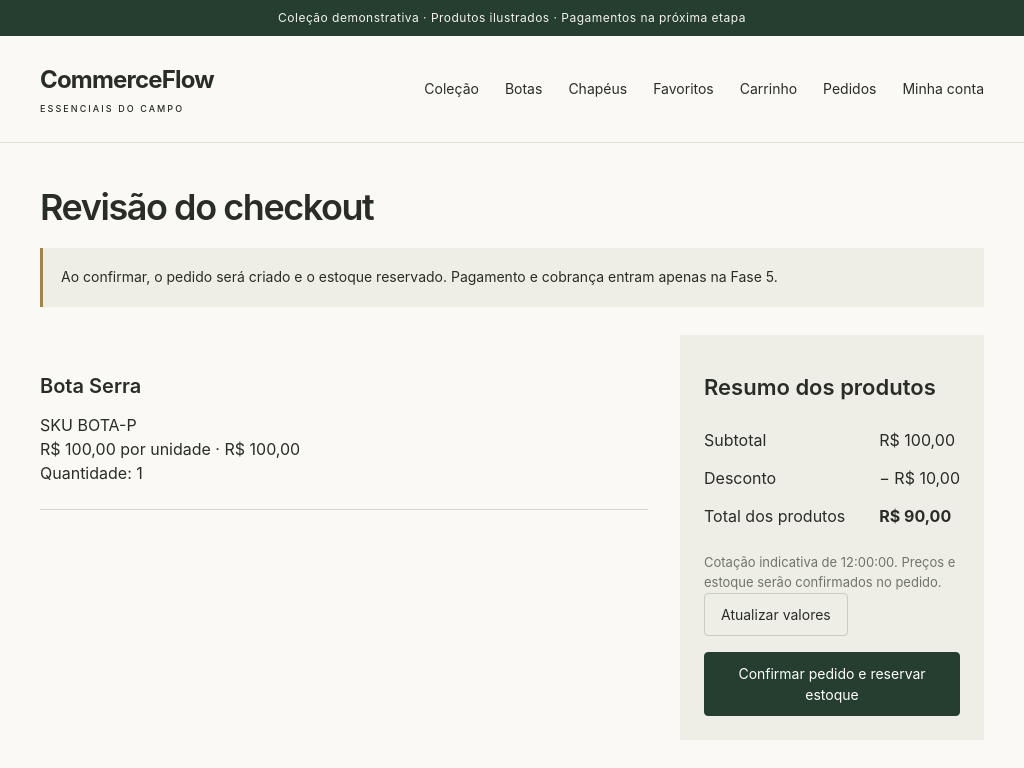
Cart and checkout › creates an order with server totals and stock reservation without a payment action
Expected: the text "R$ 90,00" is shown, left=879, top=506, right=951, bottom=526
Click the button "Confirmar pedido e reservar estoque".
click(832, 684)  # box left=704, top=652, right=960, bottom=716
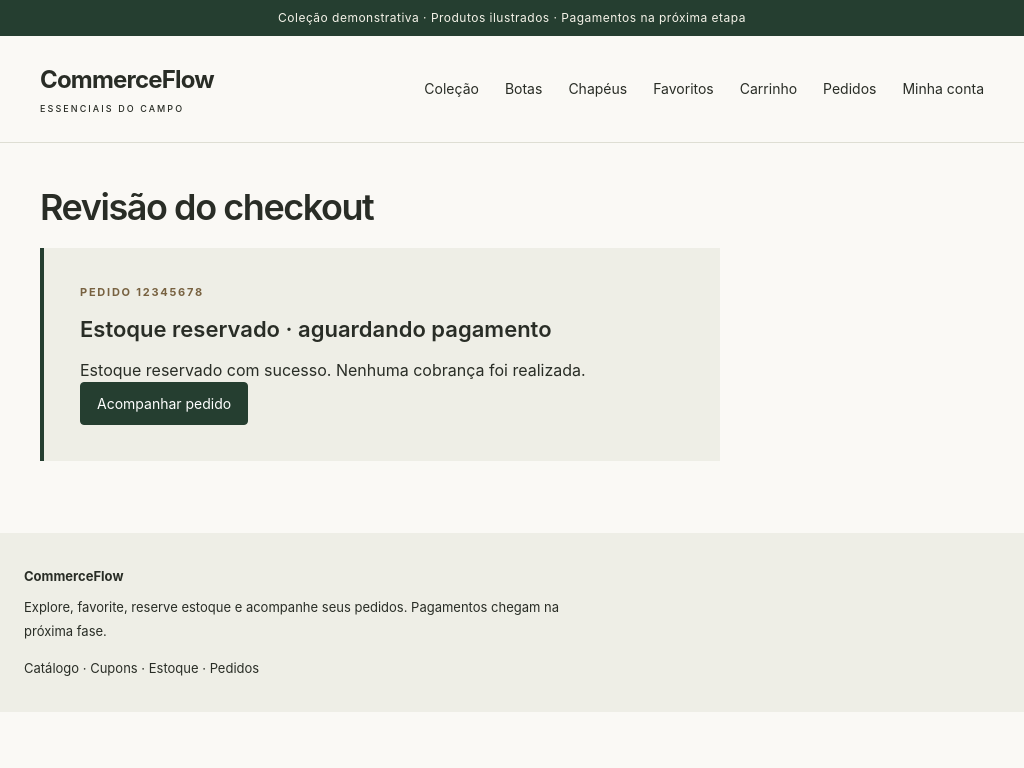
Now the text "Estoque reservado com sucesso" is shown, box left=80, top=360, right=586, bottom=380
